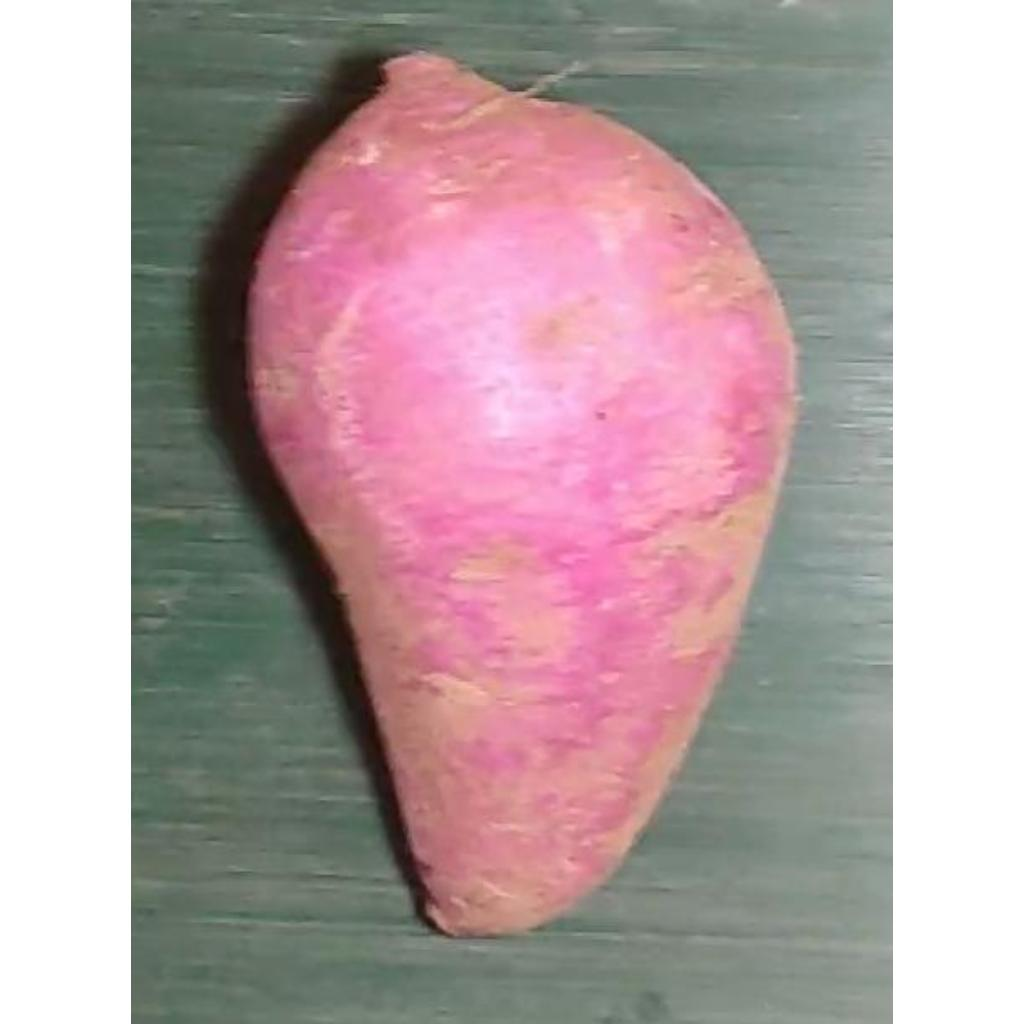Sweet Potato: (241, 51, 802, 944)
